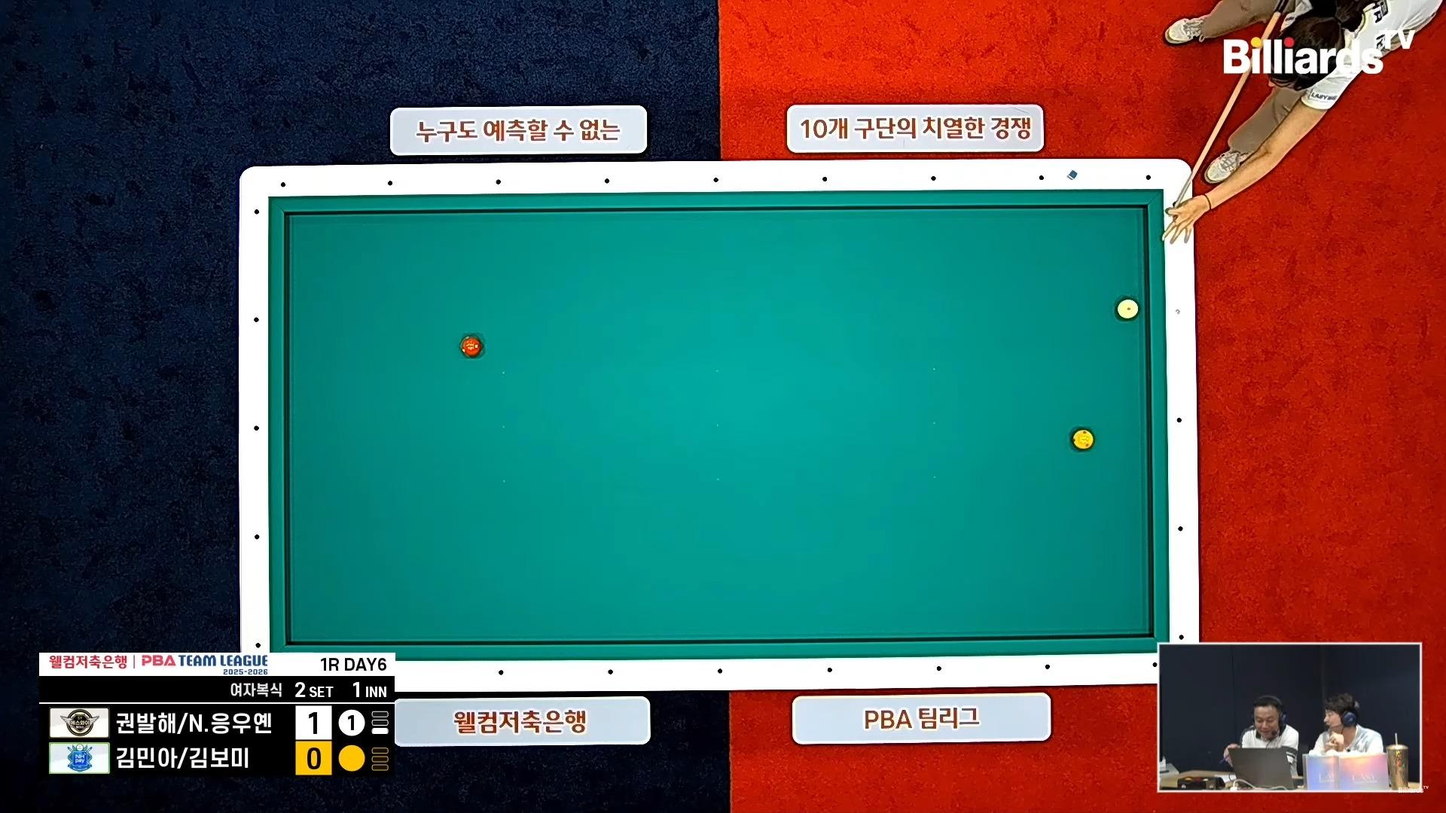billiard-ball-Red: (459, 332, 486, 361)
billiard-ball-Yellow: (1067, 427, 1096, 453)
billiard-ball-white: (1115, 295, 1138, 323)
